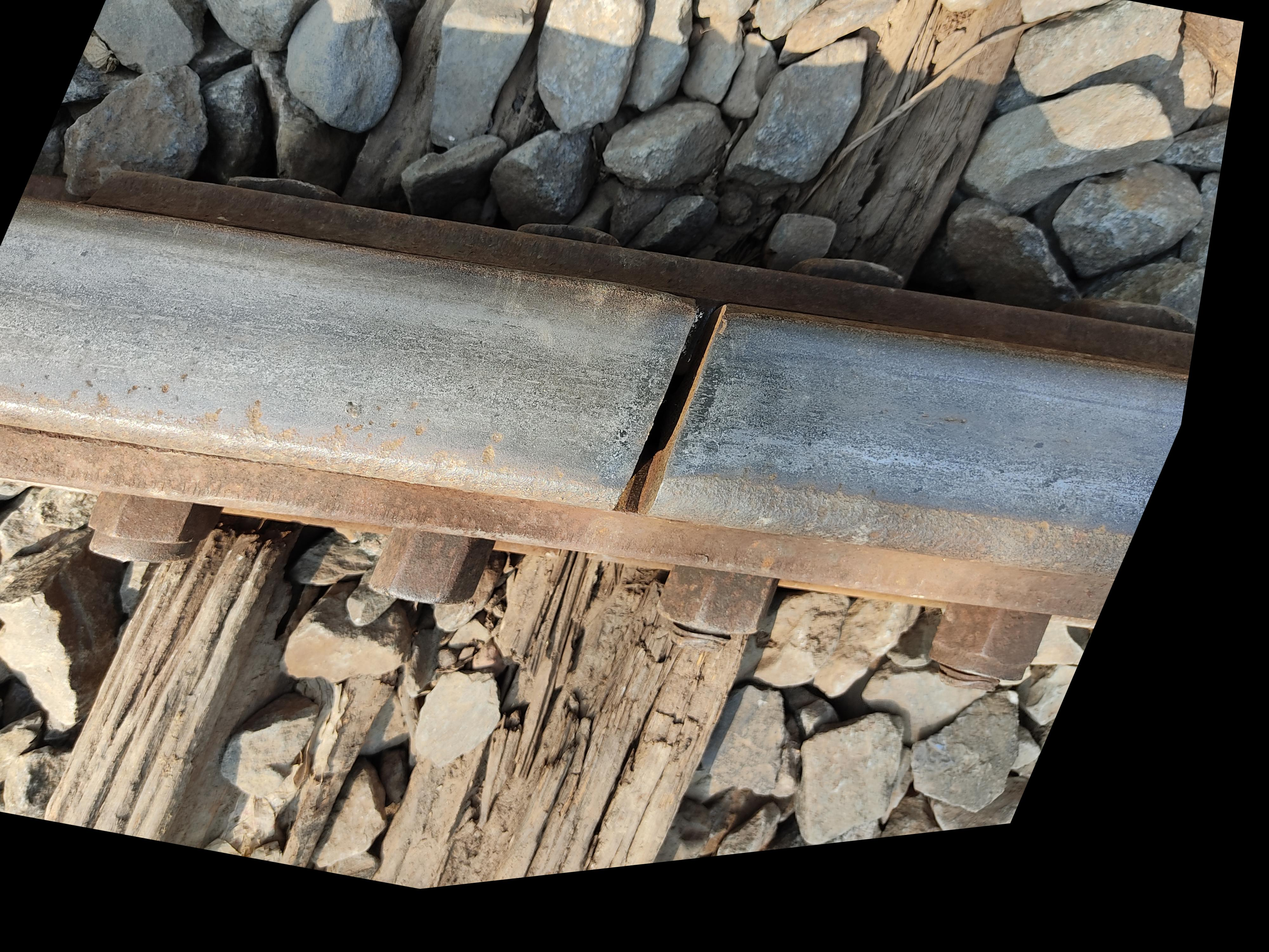person: (164, 499, 345, 683)
